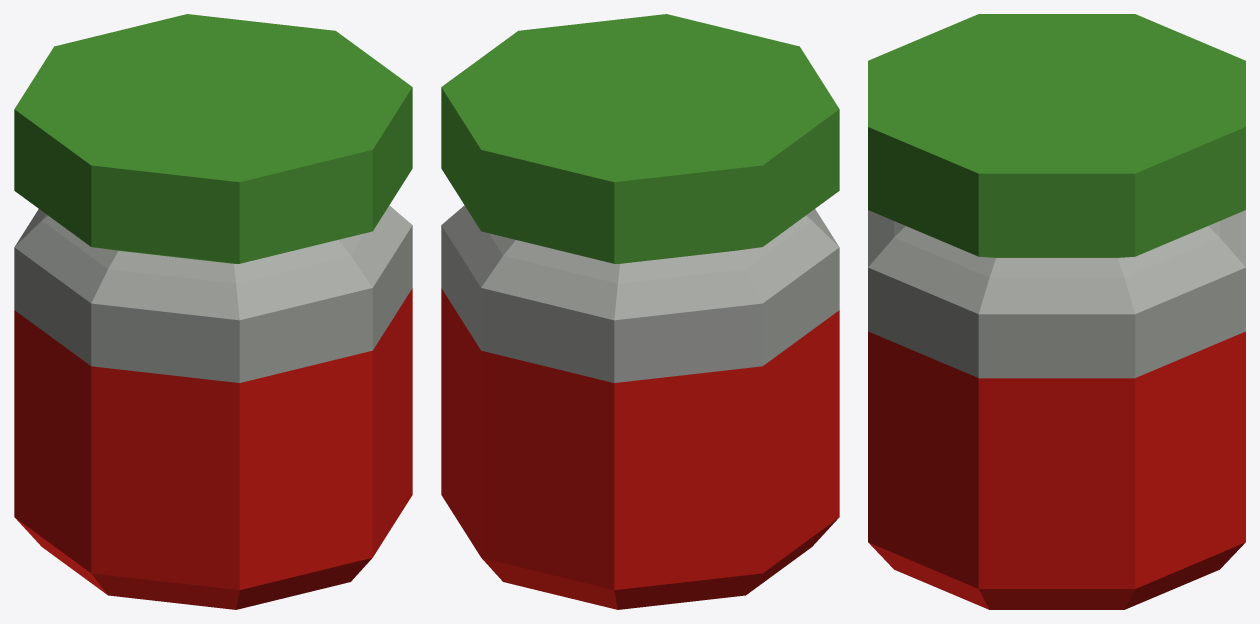
Rendered from SM_Cook_SpiceJar_01.obj.
The picture shows the model from 3 angles, left to right: view 1: azimuth 30°, elevation 25°; view 2: azimuth 150°, elevation 25°; view 3: azimuth 270°, elevation 25°; orthographic projection.
Parts seen in each view (by area): view 1: SM_Cook_SpiceJar_01; view 2: SM_Cook_SpiceJar_01; view 3: SM_Cook_SpiceJar_01.
Part boxes in pixels (left/top/right/bottom): SM_Cook_SpiceJar_01: left=14, top=14, right=412, bottom=609; SM_Cook_SpiceJar_01: left=441, top=14, right=839, bottom=609; SM_Cook_SpiceJar_01: left=868, top=14, right=1245, bottom=609.
Bounding box in the file's own units: 0.0536 × 0.07 × 0.0536.
1 material, 1 textured.
